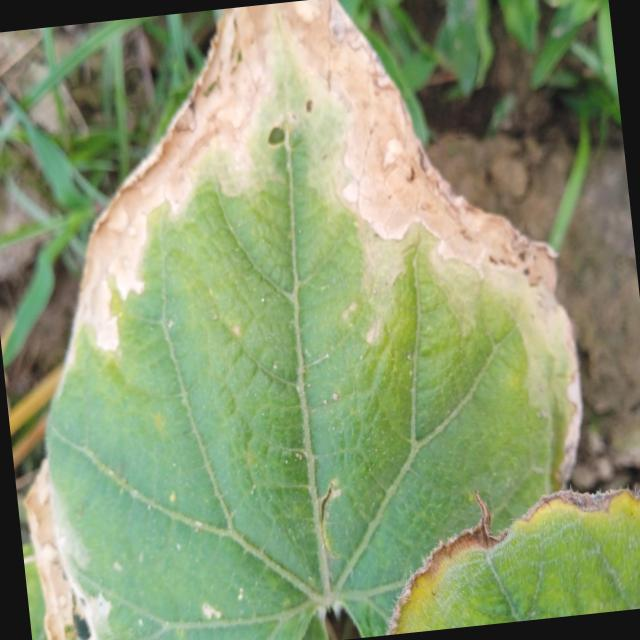cucumber_gummy: (0, 0, 612, 640), (364, 456, 640, 635)
